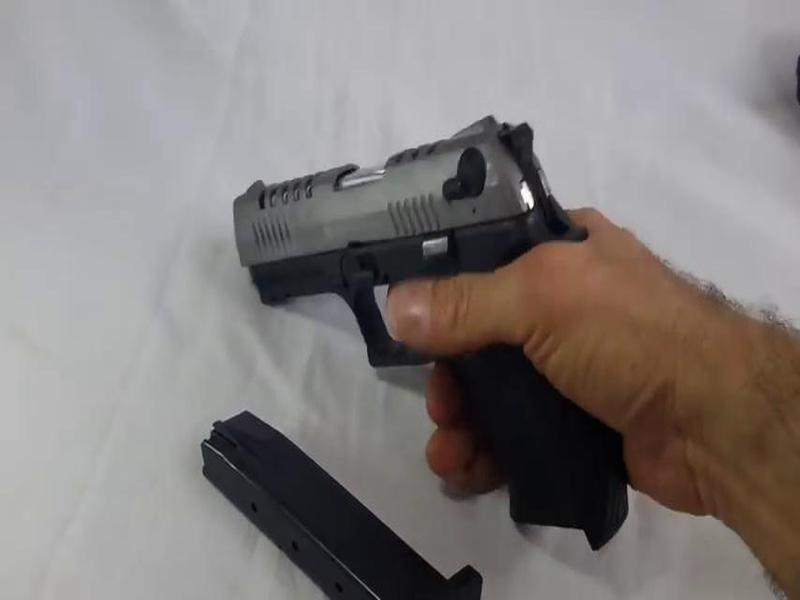Pistola: (222, 93, 610, 450)
